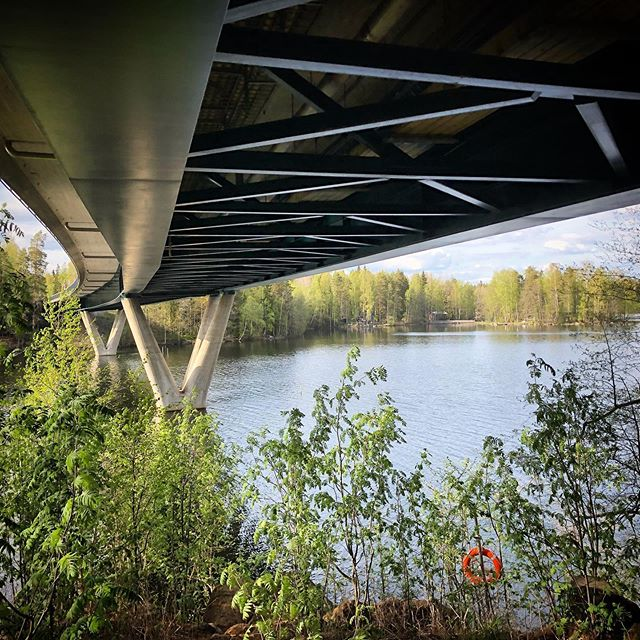bridge: (39, 1, 640, 309)
river: (1, 330, 606, 640)
vegetation: (1, 358, 483, 640), (260, 272, 622, 344)
